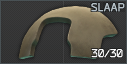Ops-Core SLAAP armor helmet plate Tan: (0, 0, 127, 64)
